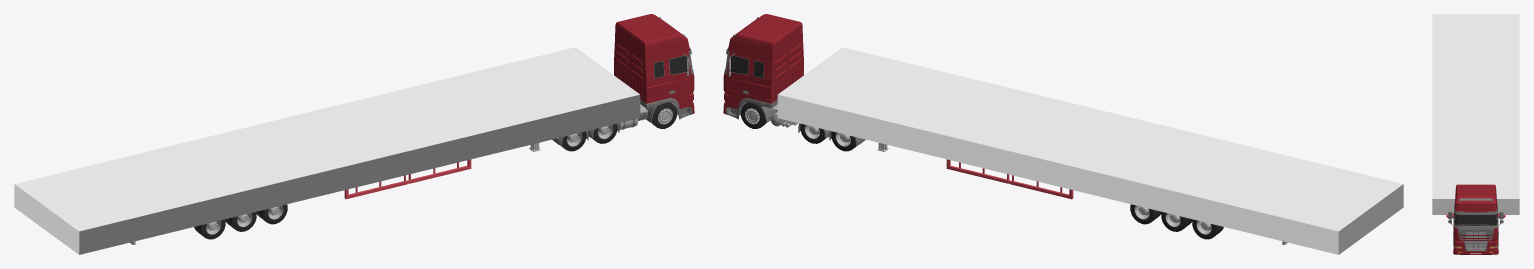
The model's file is sm_cgc_red_daxiang_dm.fbx.
The picture shows the model from 3 angles, left to right: view 1: azimuth 30°, elevation 25°; view 2: azimuth 150°, elevation 25°; view 3: azimuth 270°, elevation 25°; orthographic projection. The views are drawn at different scales.
Parts seen in each view (by area): view 1: sm_cgc_red_daxiang_dm_no_logo; view 2: sm_cgc_red_daxiang_dm_no_logo; view 3: sm_cgc_red_daxiang_dm_no_logo.
Part boxes in pixels (x1,y1,x2,y2): sm_cgc_red_daxiang_dm_no_logo: (14,14,694,254); sm_cgc_red_daxiang_dm_no_logo: (723,14,1403,254); sm_cgc_red_daxiang_dm_no_logo: (1432,14,1519,254).
Size of the model in its own units: 28.24 by 3.8 by 5.
1 material, 1 textured.
